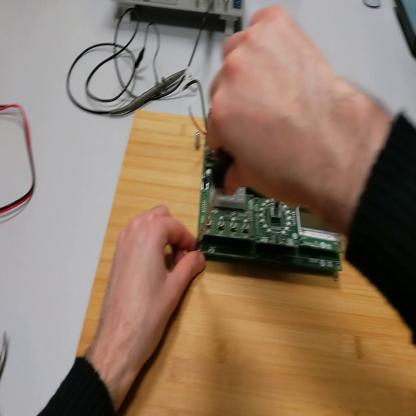hand: (208, 9, 350, 214), (98, 205, 206, 373)
low voltage board: (187, 78, 348, 272)
oscilloscope: (120, 1, 246, 34)
oscilloscope probe tip: (114, 65, 190, 119)
pliers: (2, 333, 12, 377)
screwdriver-: (203, 145, 242, 247)
welder station: (396, 2, 416, 61)
working area: (81, 108, 416, 416)
